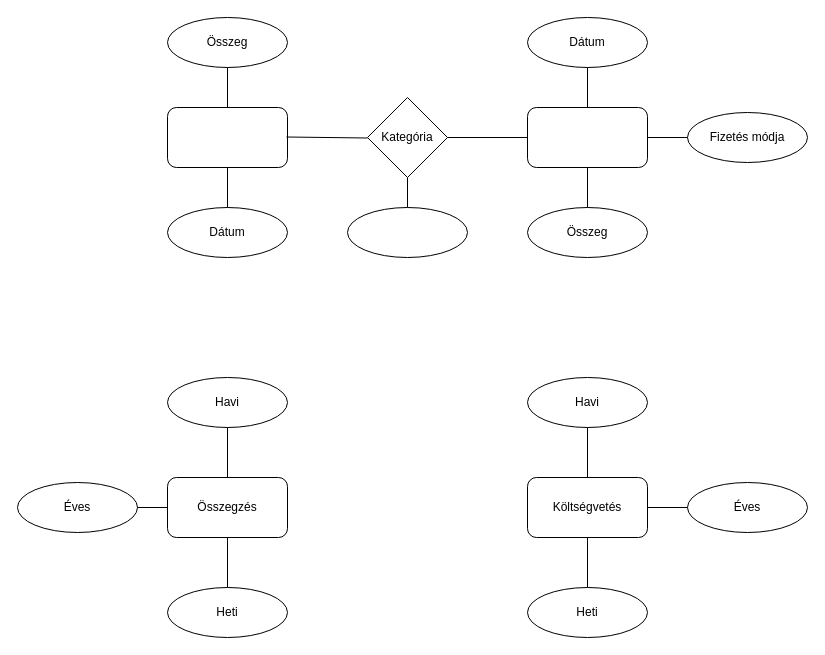
Image size: 825x655. Some labels were removed from this diagram. The shapes that lost their labels are listed below. From the top down, each one's centre as x and y in pixels, then its label:
At (x=227, y=137): "Bevétel".
At (x=587, y=137): "Kiadás".
At (x=407, y=232): "Típus".
